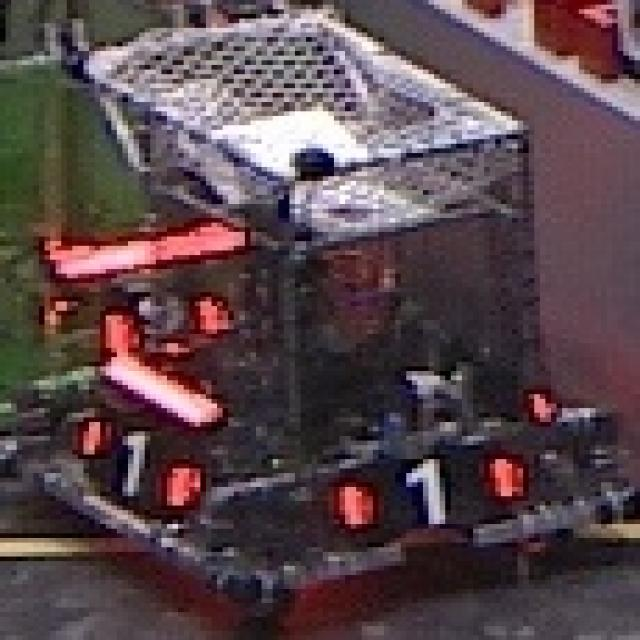R1: (340, 454, 523, 528), (78, 418, 200, 510)
